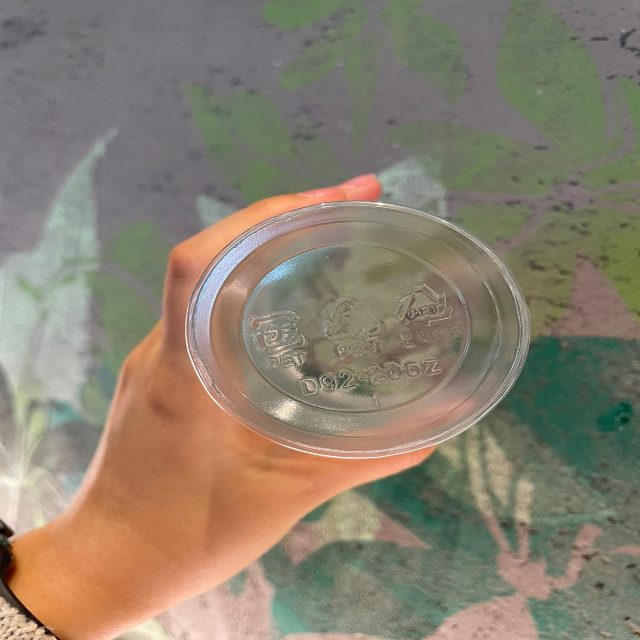pet: (394, 282, 470, 350), (246, 306, 313, 373), (322, 296, 384, 359)
